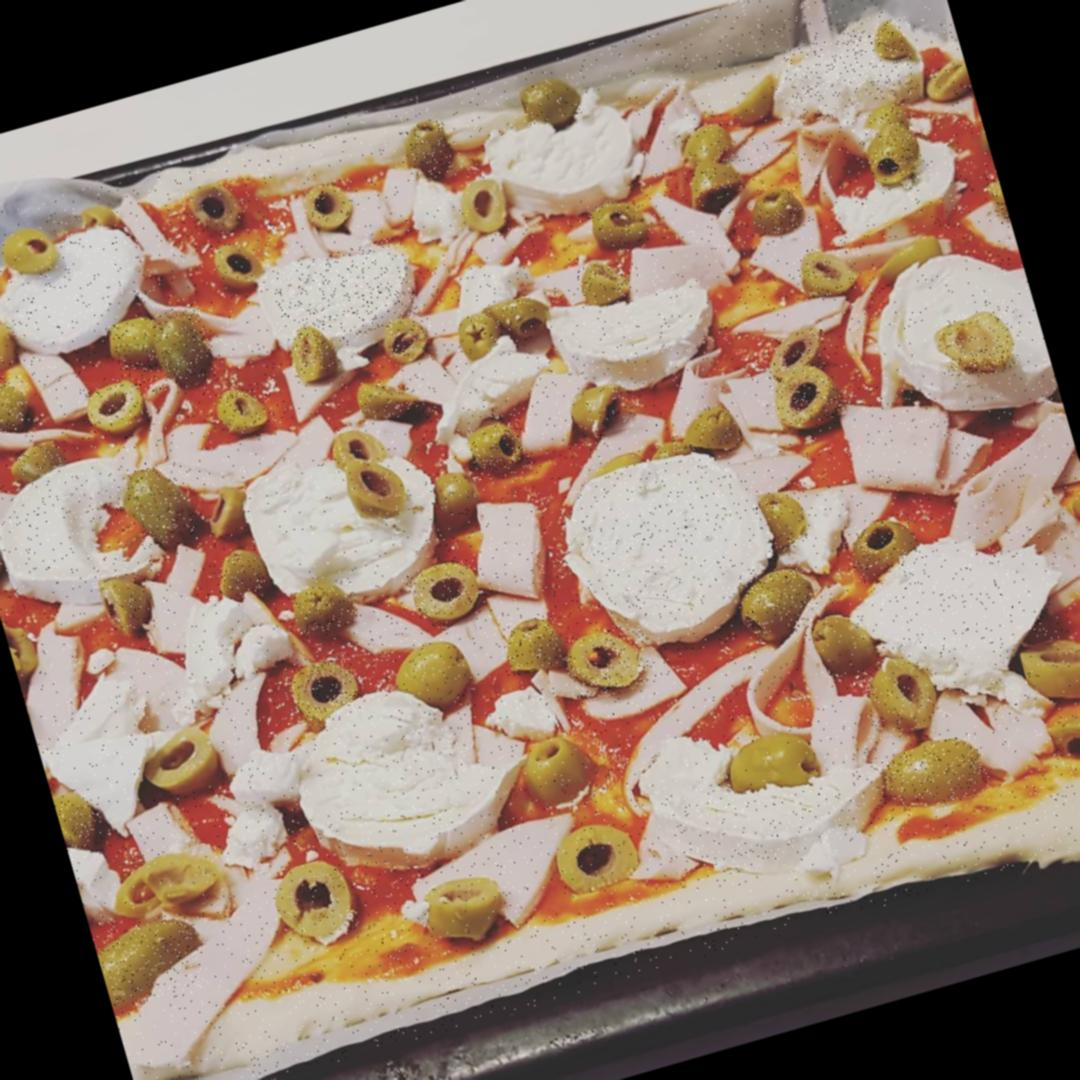Cheese: (285, 678, 520, 865), (575, 455, 770, 636), (662, 740, 897, 887), (884, 246, 1058, 424), (243, 436, 433, 596), (864, 524, 1046, 678), (0, 454, 157, 601), (484, 98, 656, 221), (548, 270, 715, 386), (270, 235, 422, 355), (0, 226, 150, 344), (773, 18, 920, 127)
Olives: (108, 842, 230, 943), (92, 908, 211, 1010), (870, 731, 994, 822), (106, 301, 218, 400), (322, 419, 416, 532), (546, 811, 650, 905), (759, 324, 847, 431), (266, 854, 359, 948), (720, 725, 828, 804), (856, 648, 946, 739), (416, 868, 512, 951), (119, 458, 203, 551), (564, 621, 656, 704), (133, 719, 227, 800), (415, 452, 493, 546), (935, 302, 1021, 385), (856, 98, 932, 191), (840, 510, 930, 588), (736, 562, 821, 641), (514, 728, 596, 808), (284, 653, 364, 730), (455, 291, 553, 353), (386, 632, 474, 700), (676, 120, 744, 204), (808, 605, 884, 677), (593, 436, 694, 490), (407, 554, 486, 620), (1018, 627, 1080, 706), (869, 226, 950, 284), (749, 484, 812, 556), (98, 566, 160, 639), (500, 610, 568, 676), (466, 416, 534, 482), (791, 238, 859, 304), (290, 576, 362, 638), (680, 399, 747, 465), (566, 381, 636, 442), (722, 72, 788, 134), (519, 72, 592, 127), (355, 370, 427, 425), (744, 182, 812, 240), (83, 378, 153, 432), (590, 194, 654, 252), (400, 117, 455, 184), (212, 381, 276, 438), (52, 786, 103, 852), (284, 324, 342, 382), (184, 177, 243, 234), (1041, 697, 1080, 782), (209, 238, 268, 292), (213, 548, 268, 603), (0, 224, 57, 276), (456, 176, 508, 232), (198, 481, 251, 534), (575, 258, 630, 307), (923, 56, 974, 108), (3, 620, 44, 678), (0, 371, 34, 440), (8, 440, 65, 479), (304, 180, 351, 225), (384, 317, 432, 359), (982, 171, 1010, 225), (80, 202, 118, 235), (0, 505, 11, 580), (1065, 482, 1080, 534)
Pizza: (0, 0, 1080, 1080)
